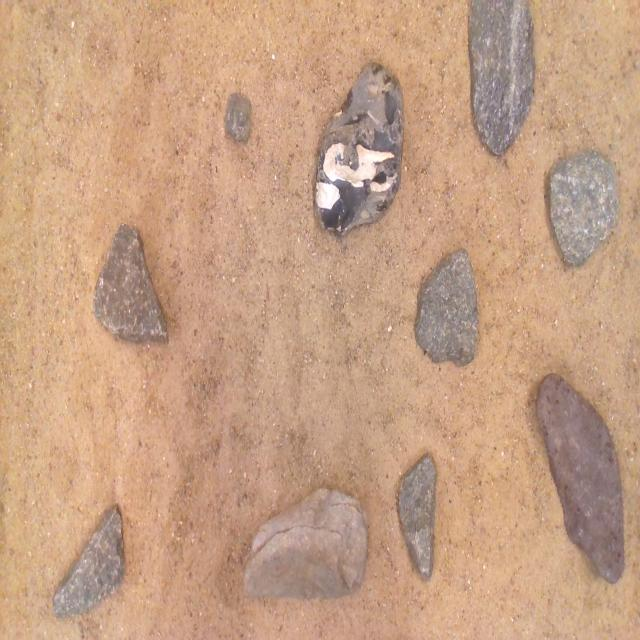rock: (536, 375, 624, 583), (316, 63, 403, 233), (244, 489, 367, 599), (469, 0, 534, 155), (94, 223, 167, 342), (52, 505, 125, 616), (550, 151, 619, 265), (415, 249, 477, 366), (399, 455, 436, 579), (224, 92, 251, 140)
